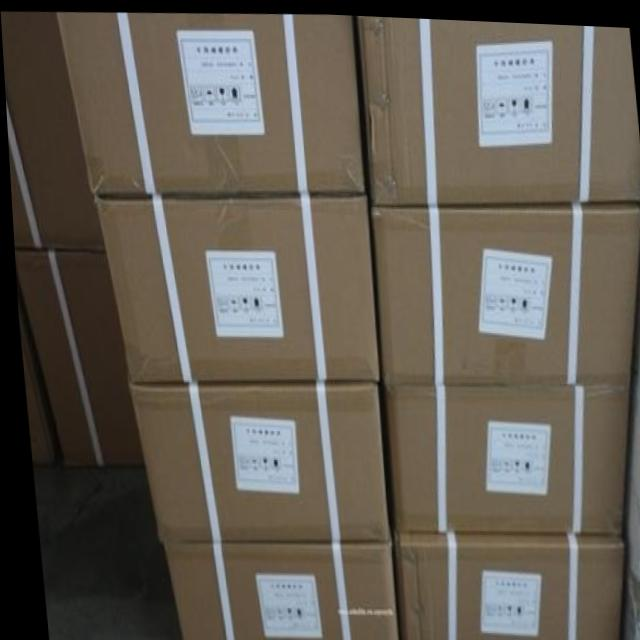box: (56, 11, 363, 196), (90, 190, 376, 382), (354, 12, 640, 201), (366, 201, 640, 382), (123, 378, 382, 544), (372, 378, 628, 532), (12, 249, 138, 465), (383, 530, 619, 640), (1, 11, 100, 249), (156, 540, 391, 640)
